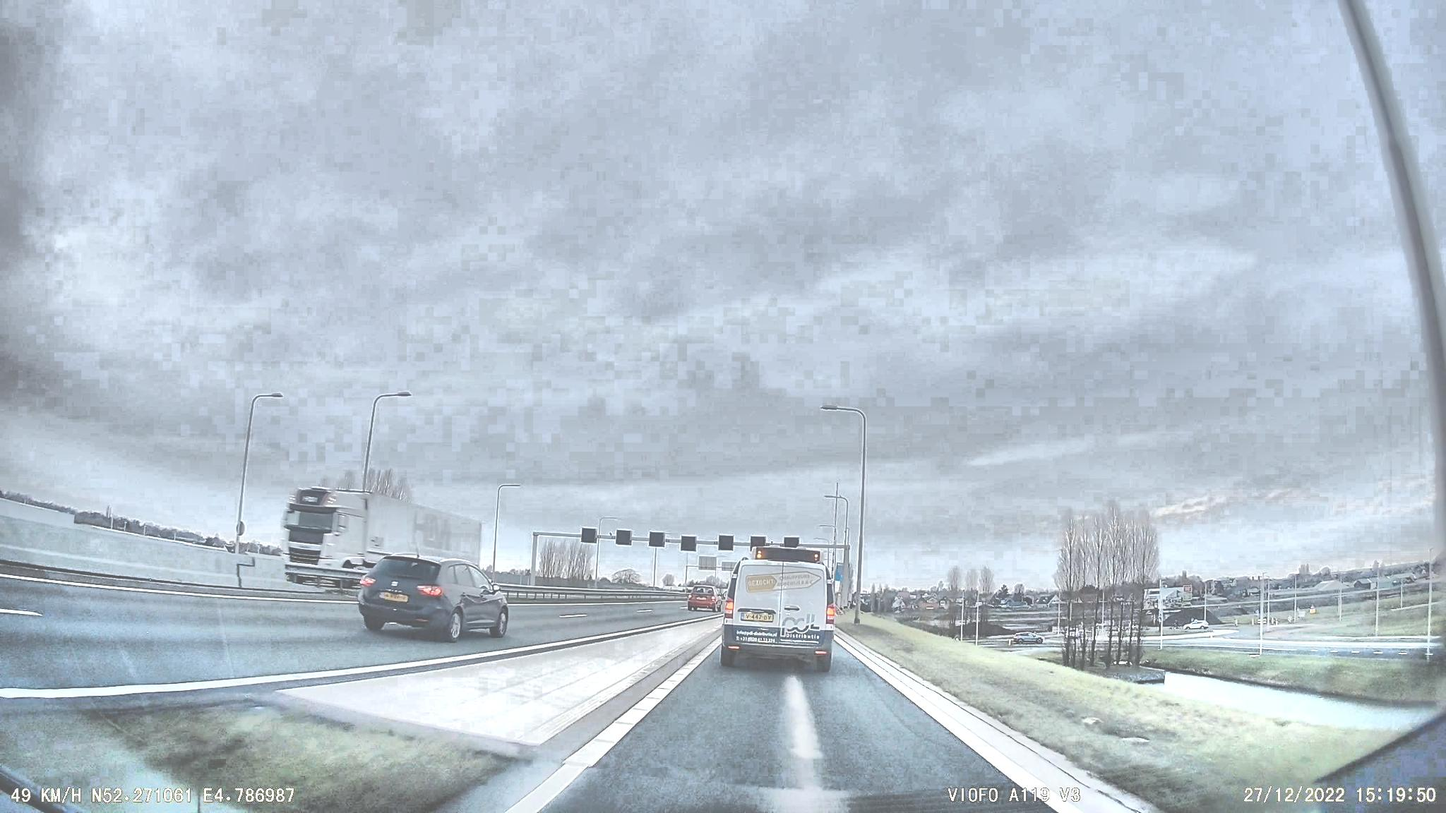Roads: (0, 602, 1052, 813)
